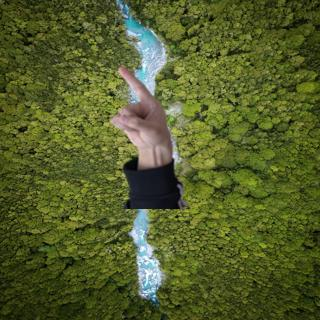IRRITATED: (109, 64, 172, 152)
